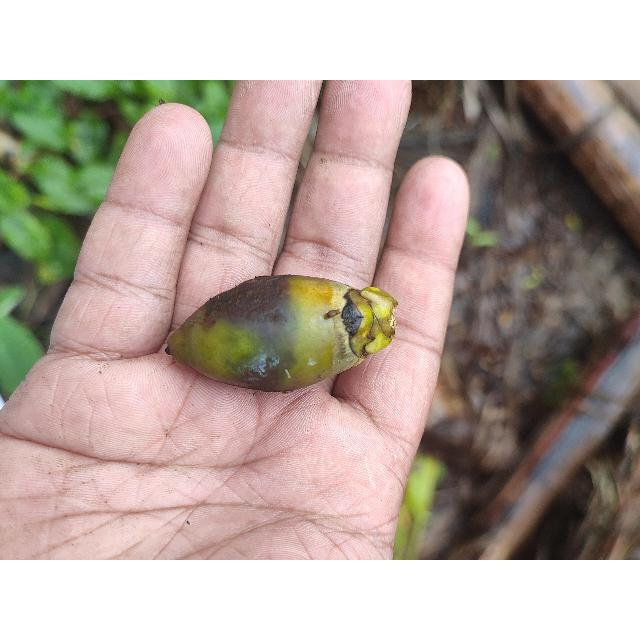damaged: (166, 275, 397, 391)
